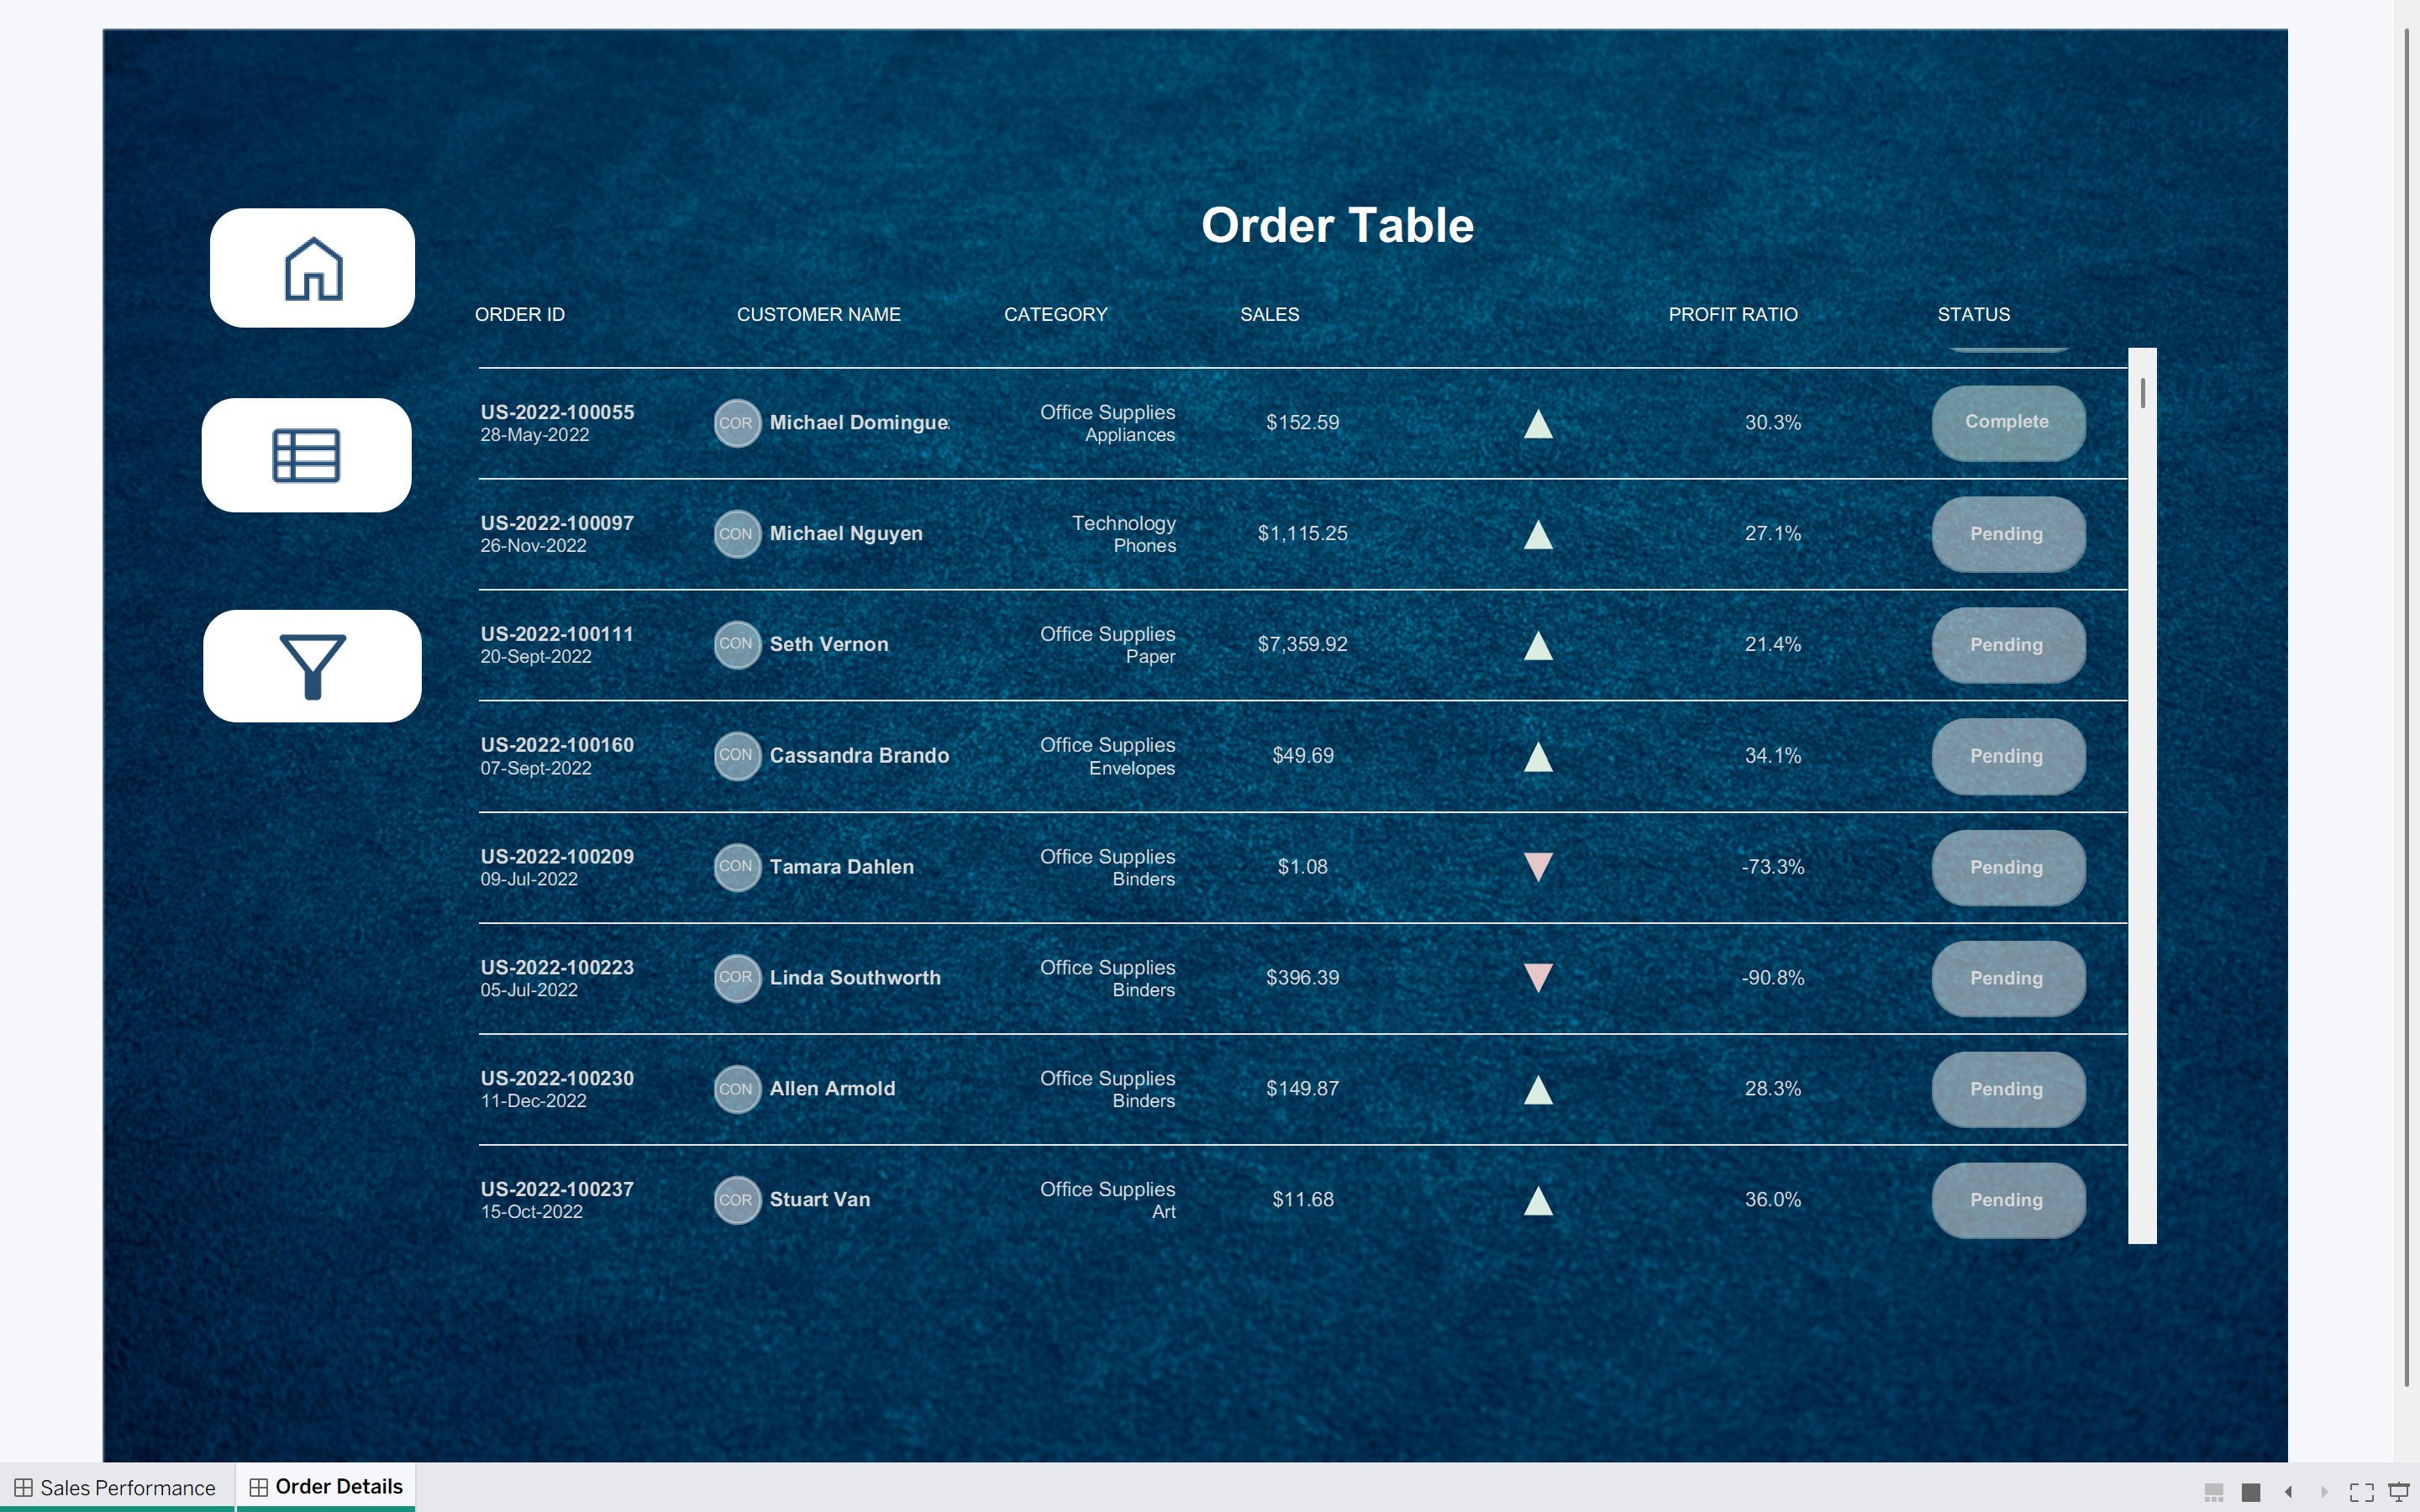

The dashboard page shown, as its layout file describes it:
{"tool":"tableau","page":{"name":"Order Details","canvas":[1300,900],"ordinal":0},"visuals":[{"type":"image","param":"Image/pexels-turgay-koca-405356598-15307542.jpg","box":[0,0,1300,900]},{"type":"blank","box":[60,0,130,120]},{"type":"blank","box":[190,0,25,860]},{"type":"text","box":[215,0,1020,88]},{"type":"blank","box":[8,8,1284,884]},{"type":"text","box":[245,118,960,33]},{"type":"dashboard-object","box":[60,120,130,79]},{"type":"text","box":[215,173,160,30]},{"type":"text","box":[375,173,155,30]},{"type":"text","box":[530,173,140,30]},{"type":"text","box":[670,173,255,30]},{"type":"text","box":[925,173,160,30]},{"type":"text","box":[1085,173,150,30]},{"type":"blank","box":[60,199,130,88]},{"type":"blank","box":[63,199,126,65]},{"type":"worksheet","title":"Table","mark":"Circle","rows":["Order ID"],"cols":["Calculation_1864208809272696834","Calculation_1864208809544347679","Calculation_1864208809593409576","Calculation_1864208809545220131","Calculation_1414411776925605890","Calculation_1414411776925605890","Calculation_1864208809272696834","Calculation_1864208809272696834","Calculation_1864208809272696834","Calculation_1864208809272696834"],"box":[215,203,1020,557]},{"type":"dashboard-object","box":[59,237,125,68]},{"type":"blank","box":[62,245,130,83]},{"type":"blank","box":[60,287,130,1]},{"type":"filter","title":"Table","param":"[Sample - Superstore].[none:Order ID:nk]","box":[60,288,130,49]},{"type":"filter","title":"Table","param":"[Sample - Superstore].[none:Category:nk]","box":[60,337,130,49]},{"type":"worksheet","title":"Filter","mark":"Shape","box":[60,363,130,67]},{"type":"filter","title":"Table","param":"[Sample - Superstore].[none:Calculation_1864208809308368917:nk]","box":[60,386,130,49]}]}

Visuals, with their boxes on the page's 1300x900 design canvas (x1, y1, x2, y2). These are canvas units, not pixel positions in the 2420x1512 screenshot, which may show the page scaled, cropped or inside an application window:
image: [0, 0, 1300, 900]
blank: [60, 0, 190, 120]
blank: [190, 0, 215, 860]
text: [215, 0, 1235, 88]
blank: [8, 8, 1292, 892]
text: [245, 118, 1205, 151]
dashboard-object: [60, 120, 190, 199]
text: [215, 173, 375, 203]
text: [375, 173, 530, 203]
text: [530, 173, 670, 203]
text: [670, 173, 925, 203]
text: [925, 173, 1085, 203]
text: [1085, 173, 1235, 203]
blank: [60, 199, 190, 287]
blank: [63, 199, 189, 264]
"Table" worksheet (Circle marks): [215, 203, 1235, 760]
dashboard-object: [59, 237, 184, 305]
blank: [62, 245, 192, 328]
blank: [60, 287, 190, 288]
"Table" filter: [60, 288, 190, 337]
"Table" filter: [60, 337, 190, 386]
"Filter" worksheet (Shape marks): [60, 363, 190, 430]
"Table" filter: [60, 386, 190, 435]
